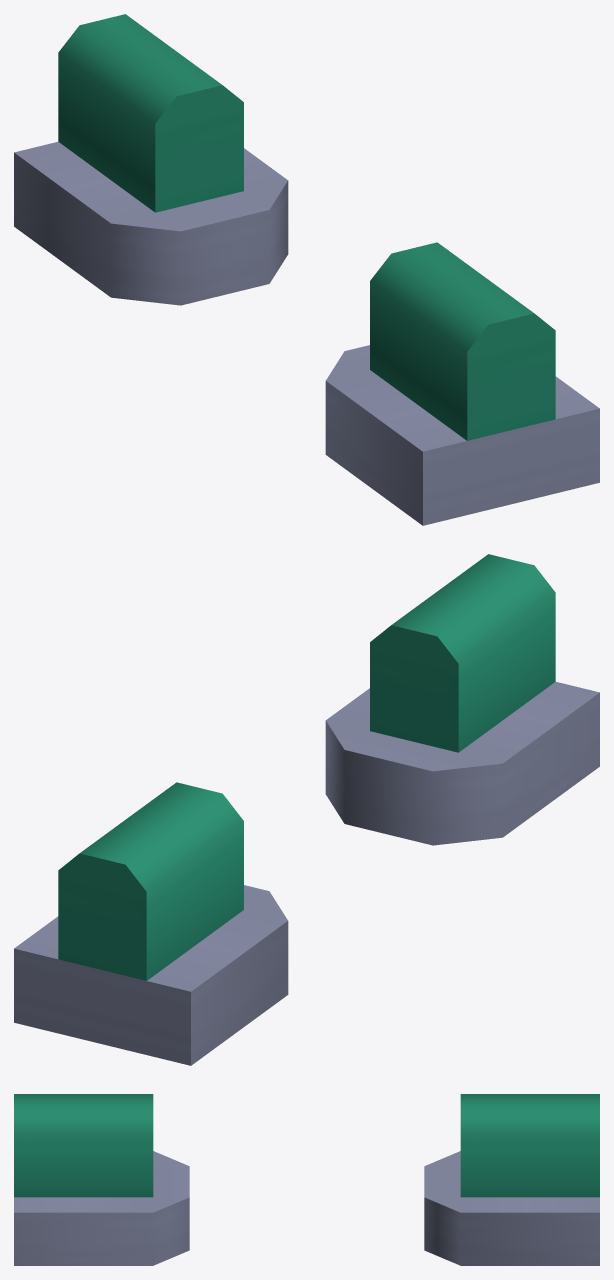
File: hedgeGate.fbx
3 renders of one model, top to bottom at view 1: azimuth 30°, elevation 25°; view 2: azimuth 150°, elevation 25°; view 3: azimuth 270°, elevation 25°, orthographic. The views are drawn at different scales.
Parts seen in each view (by area): view 1: hedgeGate; view 2: hedgeGate; view 3: hedgeGate.
Part boxes in pixels (x1,y1,x2,y2): hedgeGate: (14, 14, 599, 525); hedgeGate: (14, 554, 599, 1065); hedgeGate: (14, 1094, 599, 1265).
Size of the model in its own units: 0.25 by 1 by 0.25.
